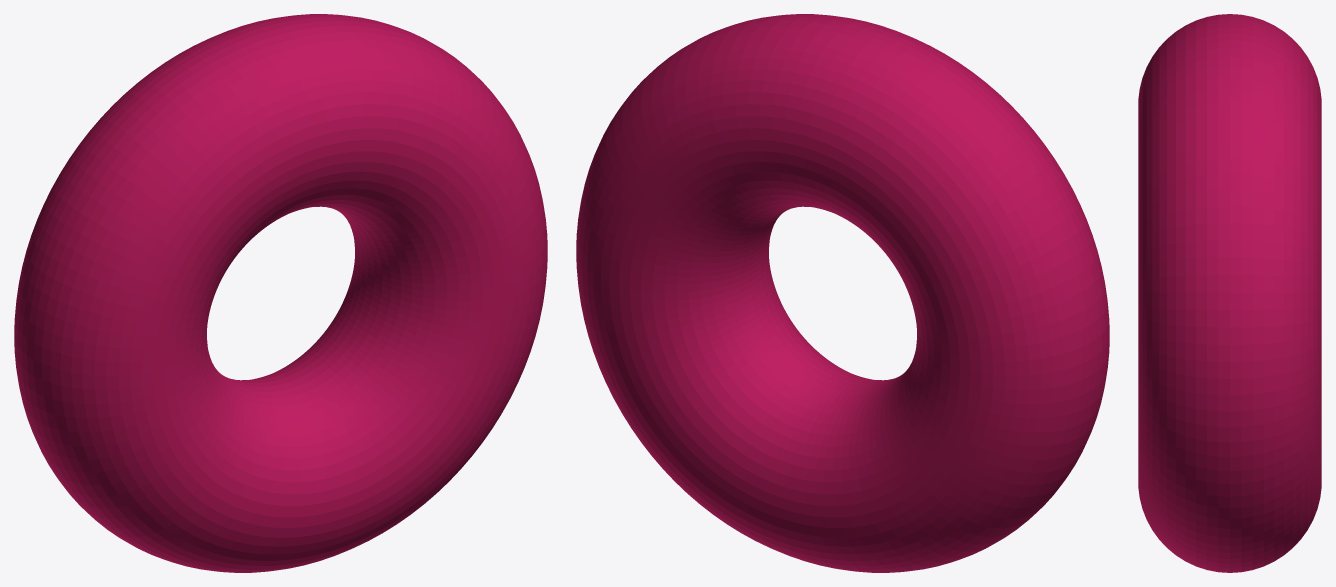
3 views of the same model, side by side, from view 1: azimuth 30°, elevation 25°; view 2: azimuth 150°, elevation 25°; view 3: azimuth 270°, elevation 25° (orthographic). The views are drawn at different scales.
Visible parts, largest first — view 1: world; view 2: world; view 3: world.
Boxes of the visible parts, x1=… form: world: x1=14, y1=14, x2=547, y2=572; world: x1=576, y1=14, x2=1109, y2=572; world: x1=1138, y1=14, x2=1321, y2=572.
Bounding box in the file's own units: 19.87 × 19.87 × 6.52.
